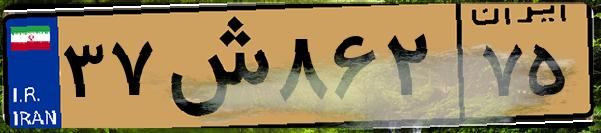2: (385, 28, 445, 110)
3: (57, 26, 110, 100)
5: (525, 38, 570, 115)
6: (330, 28, 385, 110)
7: (475, 38, 525, 113), (110, 28, 158, 98)
8: (270, 28, 330, 110)
ش: (158, 12, 270, 120)
